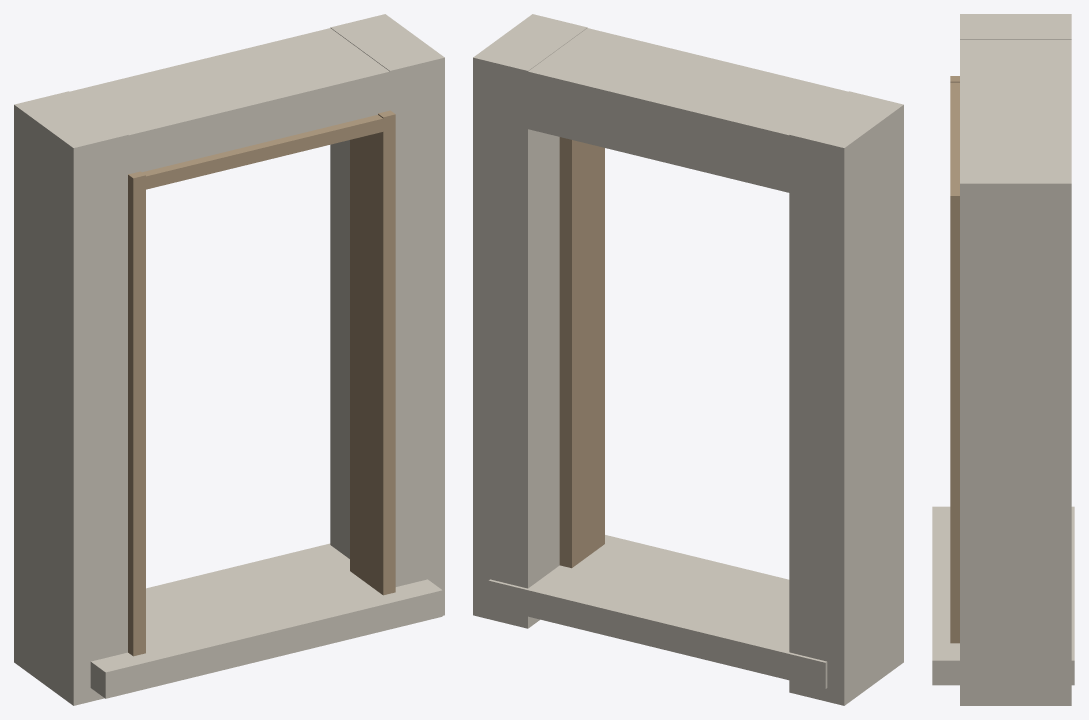
Rendered from portal-real-estate-frame.glb.
3 views of the same model, side by side, from view 1: azimuth 30°, elevation 25°; view 2: azimuth 150°, elevation 25°; view 3: azimuth 270°, elevation 25° (orthographic). The views are drawn at different scales.
Visible parts, largest first — view 1: estate_wall_left, estate_wall_right, estate_lintel, estate_threshold, estate_bronze_right, estate_bronze_left, estate_bronze_head; view 2: estate_wall_left, estate_wall_right, estate_lintel, estate_threshold, estate_bronze_right; view 3: estate_wall_right, estate_lintel, estate_bronze_right, estate_threshold, estate_wall_left, estate_bronze_head.
Part boxes in pixels (x1,y1,x2,y2): estate_wall_left: (14,91,128,705); estate_wall_right: (330,14,444,615); estate_lintel: (14,28,444,204); estate_threshold: (90,543,442,698); estate_bronze_right: (350,110,395,595); estate_bronze_left: (128,171,145,656); estate_bronze_head: (134,115,383,191); estate_wall_left: (789,91,903,705); estate_wall_right: (473,14,587,628); estate_lintel: (473,28,902,204); estate_threshold: (488,535,827,688); estate_bronze_right: (559,137,604,568); estate_wall_right: (960,158,1071,705); estate_lintel: (960,39,1071,238); estate_bronze_right: (950,190,959,643); estate_threshold: (932,506,1074,685); estate_wall_left: (960,14,1071,39); estate_bronze_head: (950,82,959,189).
Size of the model in its own units: 3.24 by 4.65 by 1.15.
